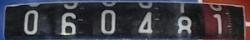digits: (99, 1, 118, 35), (209, 2, 227, 37), (137, 10, 154, 36), (60, 12, 77, 36), (23, 9, 38, 34), (176, 15, 192, 38)
